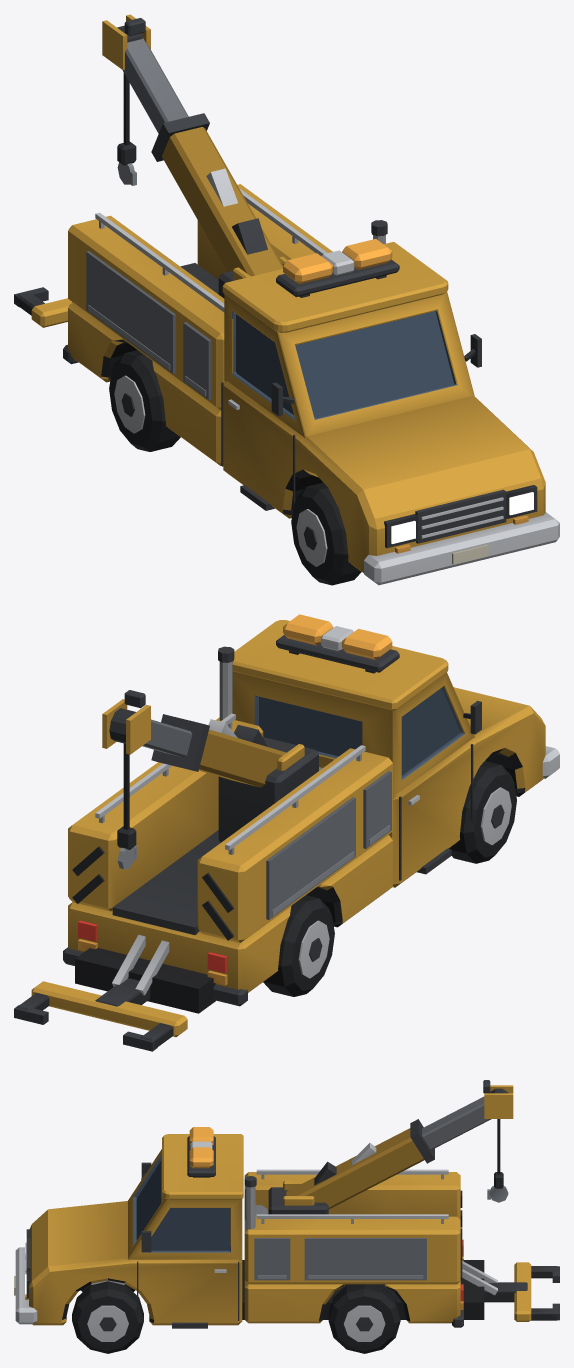
The model's file is tow-truck.glb.
The picture shows the model from 3 angles, top to bottom: view 1: azimuth 30°, elevation 25°; view 2: azimuth 150°, elevation 25°; view 3: azimuth 270°, elevation 25°; orthographic projection. The views are drawn at different scales.
Visible parts, largest first — view 1: TowTruck; view 2: TowTruck; view 3: TowTruck.
Part boxes in pixels (x1,y1,x2,y2): TowTruck: (14,14,559,585); TowTruck: (14,614,559,1051); TowTruck: (14,1080,559,1353).
Size of the model in its own units: 1.38 by 2.23 by 4.55.
